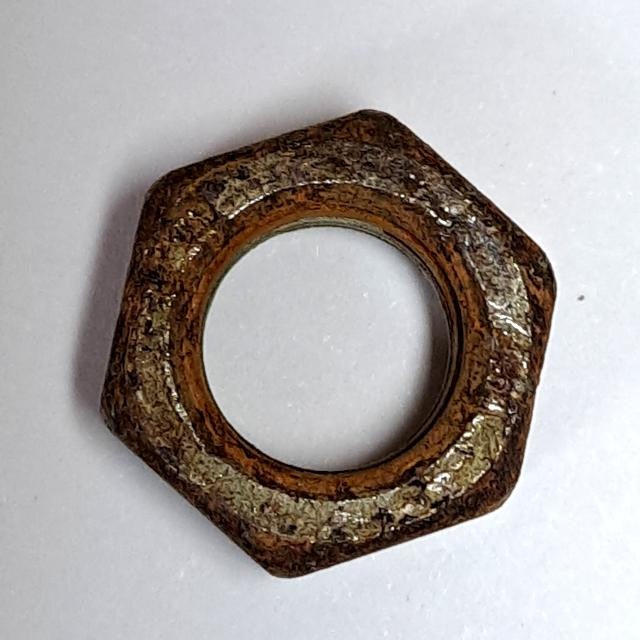Rust: (87, 90, 564, 594)
